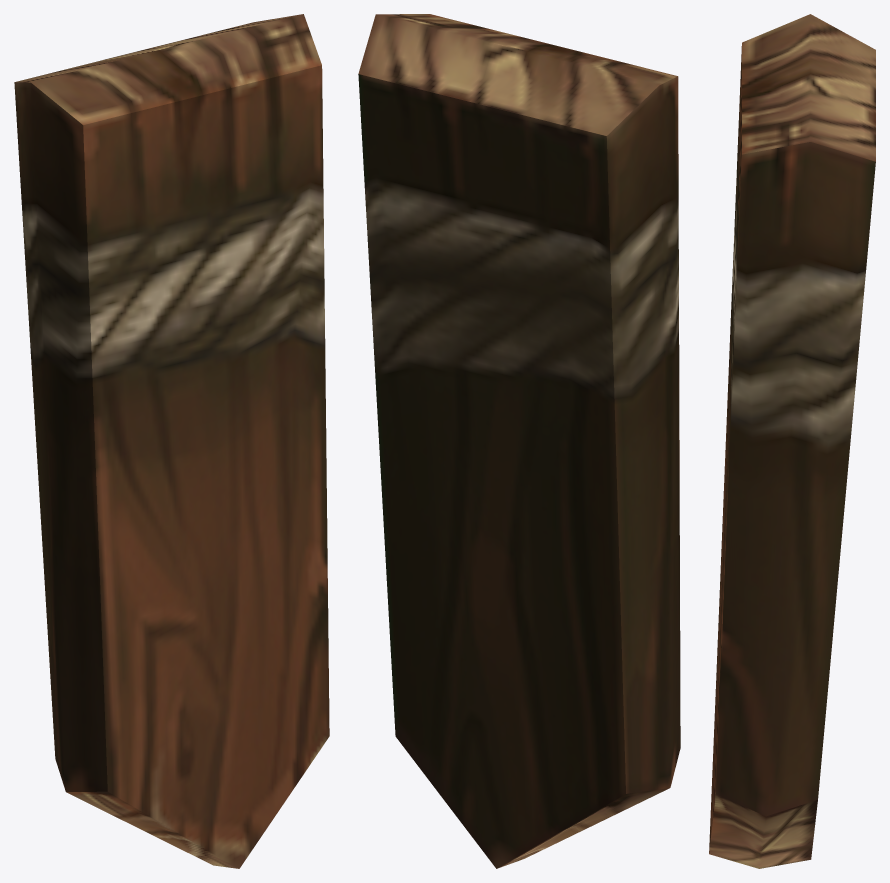
File: rope_bridge_module_broken04.fbx
The picture shows the model from 3 angles, left to right: view 1: azimuth 30°, elevation 25°; view 2: azimuth 150°, elevation 25°; view 3: azimuth 270°, elevation 25°; orthographic projection. The views are drawn at different scales.
Parts seen in each view (by area): view 1: rope_bridge_module_broken04; view 2: rope_bridge_module_broken04; view 3: rope_bridge_module_broken04.
Boxes of the visible parts, bbox=[...] form: rope_bridge_module_broken04: bbox=[14, 14, 329, 868]; rope_bridge_module_broken04: bbox=[358, 14, 680, 868]; rope_bridge_module_broken04: bbox=[709, 14, 875, 868].
Size of the model in its own units: 27.85 by 78.37 by 15.15.
